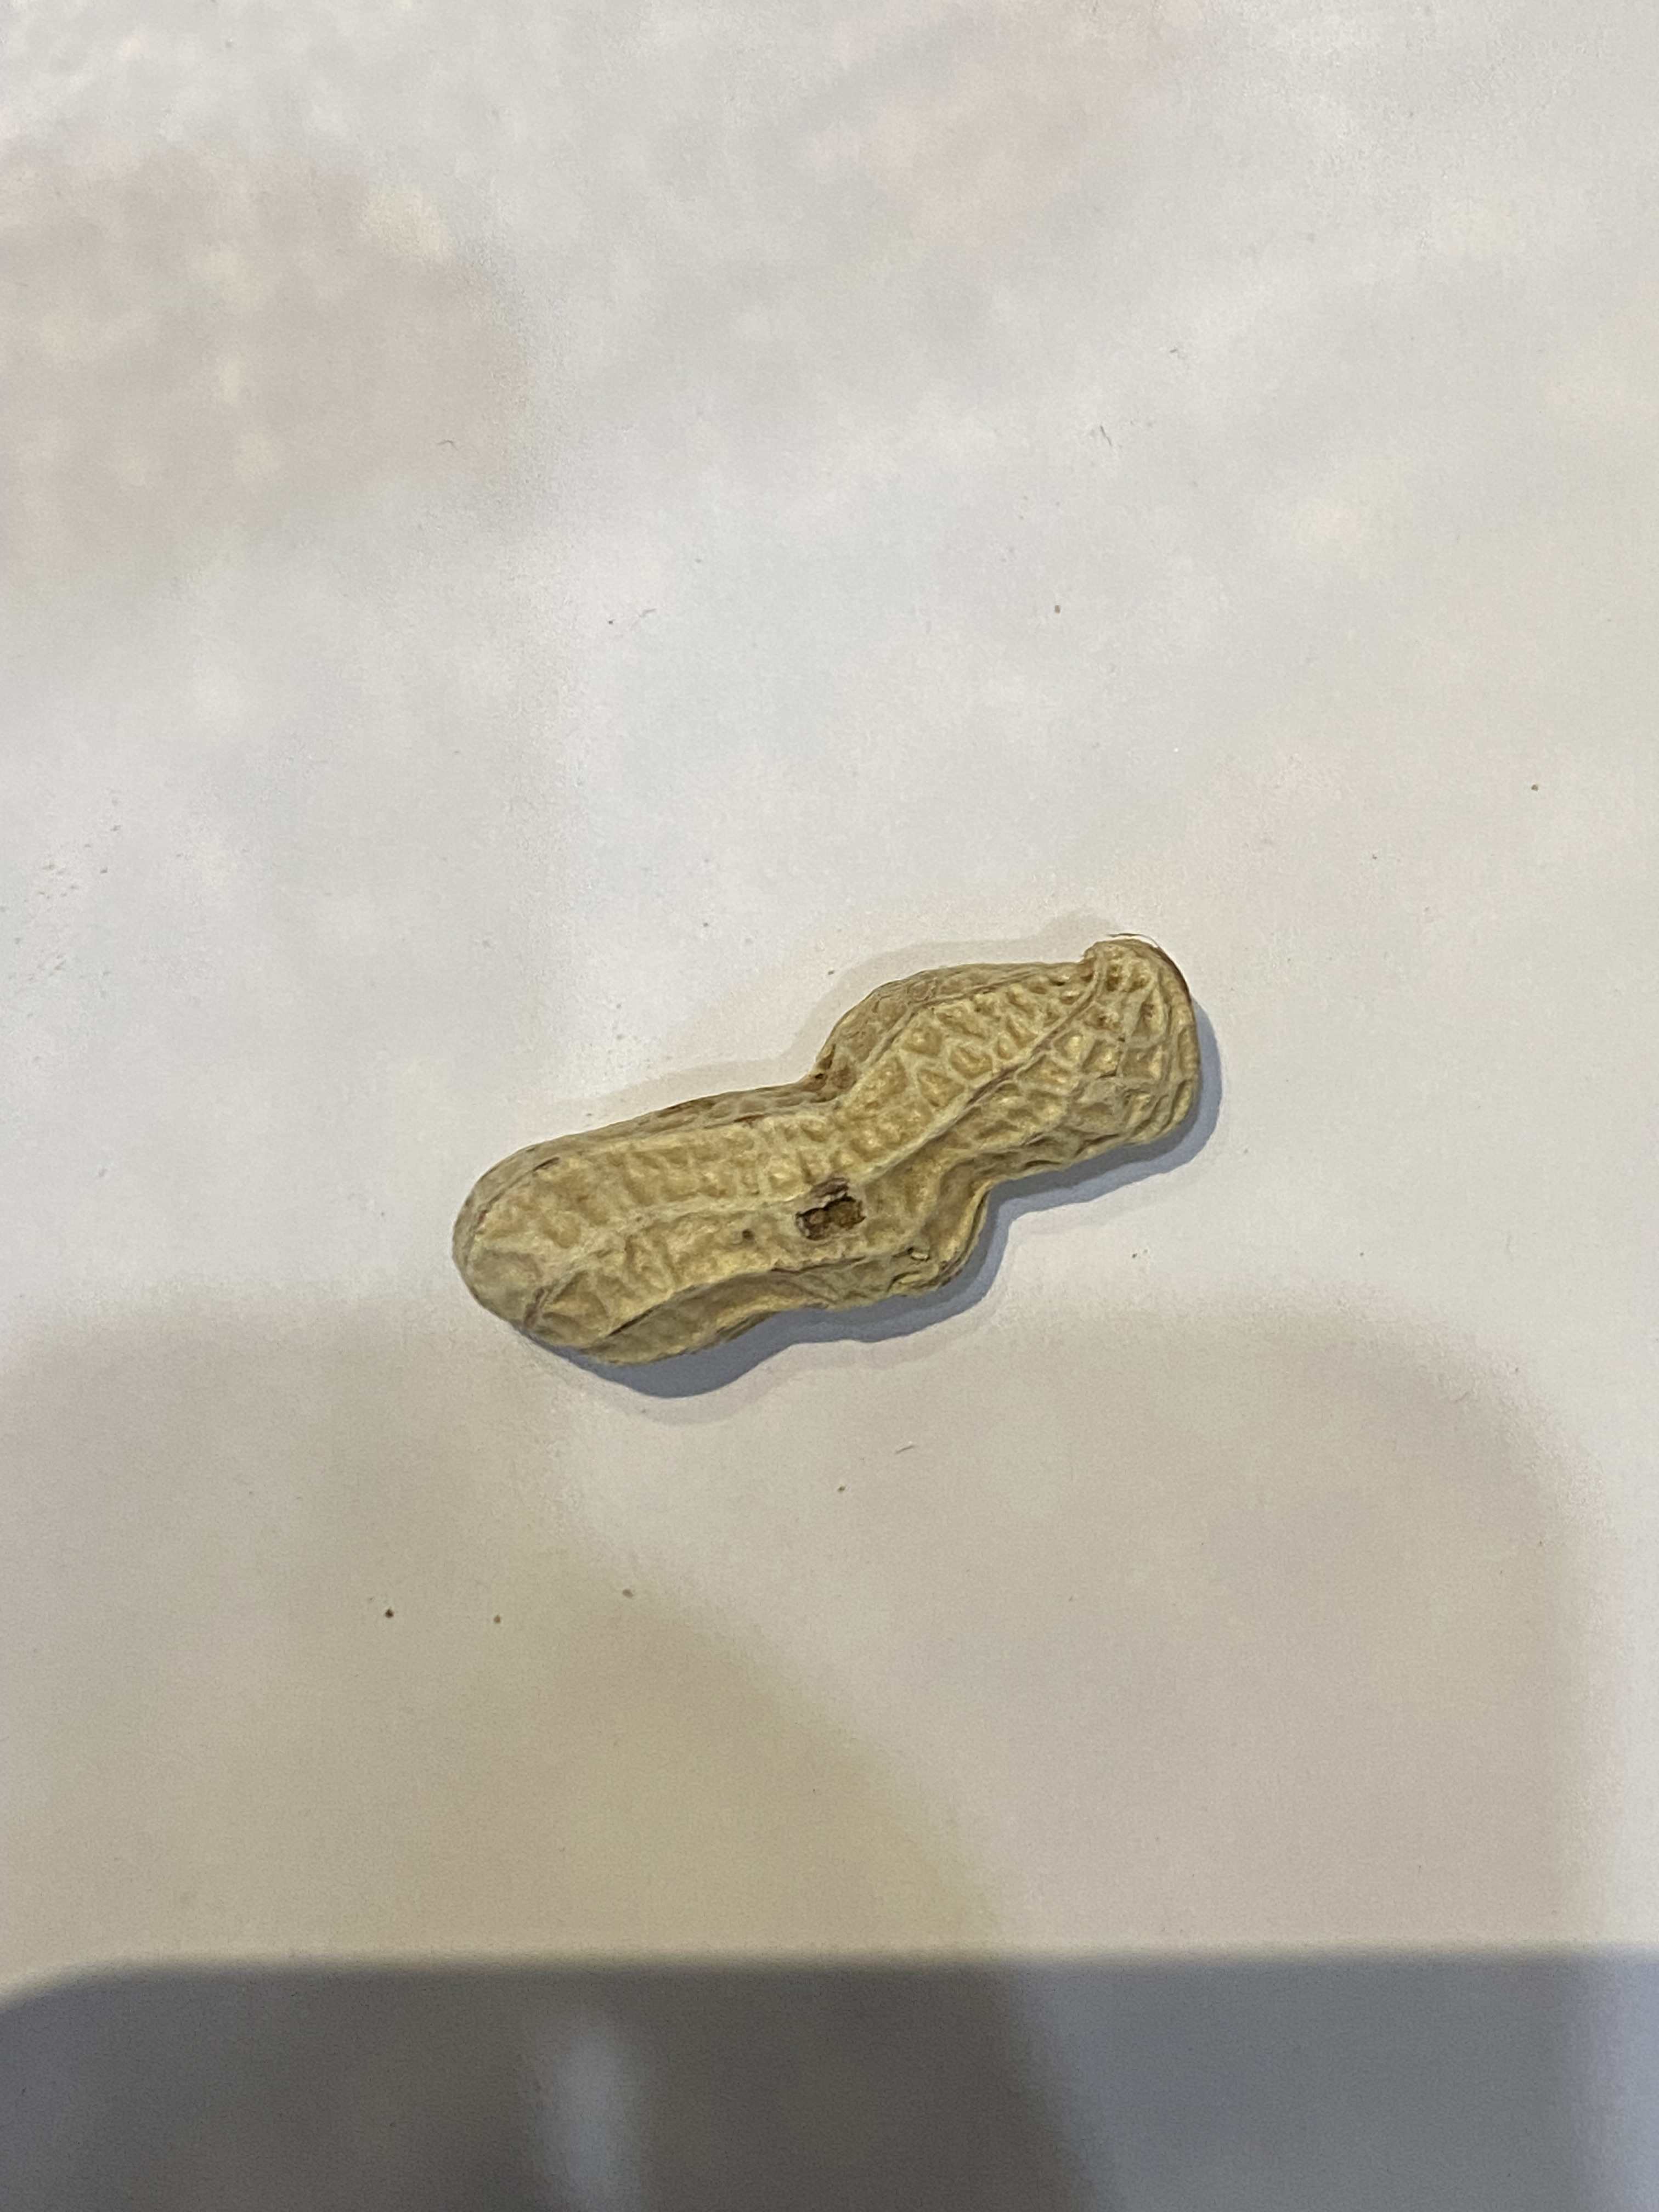kacang3: (450, 914, 1204, 1393)
